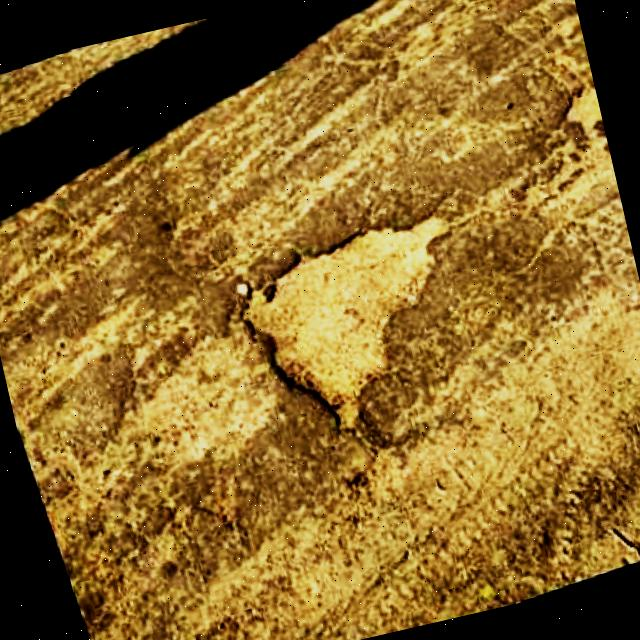pothole: (220, 208, 498, 455), (516, 77, 626, 238)
